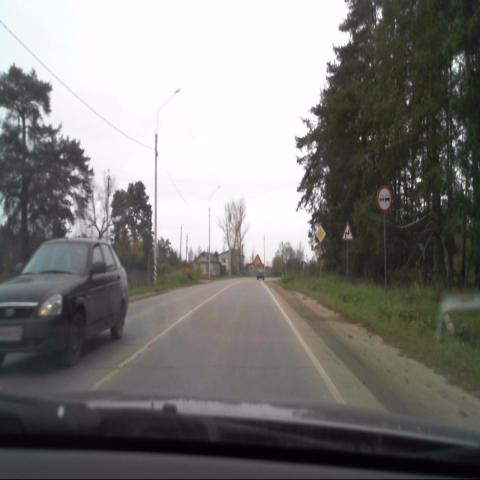1_12: (340, 222, 353, 241)
2_1: (314, 226, 326, 244)
3_20: (377, 187, 393, 213)
